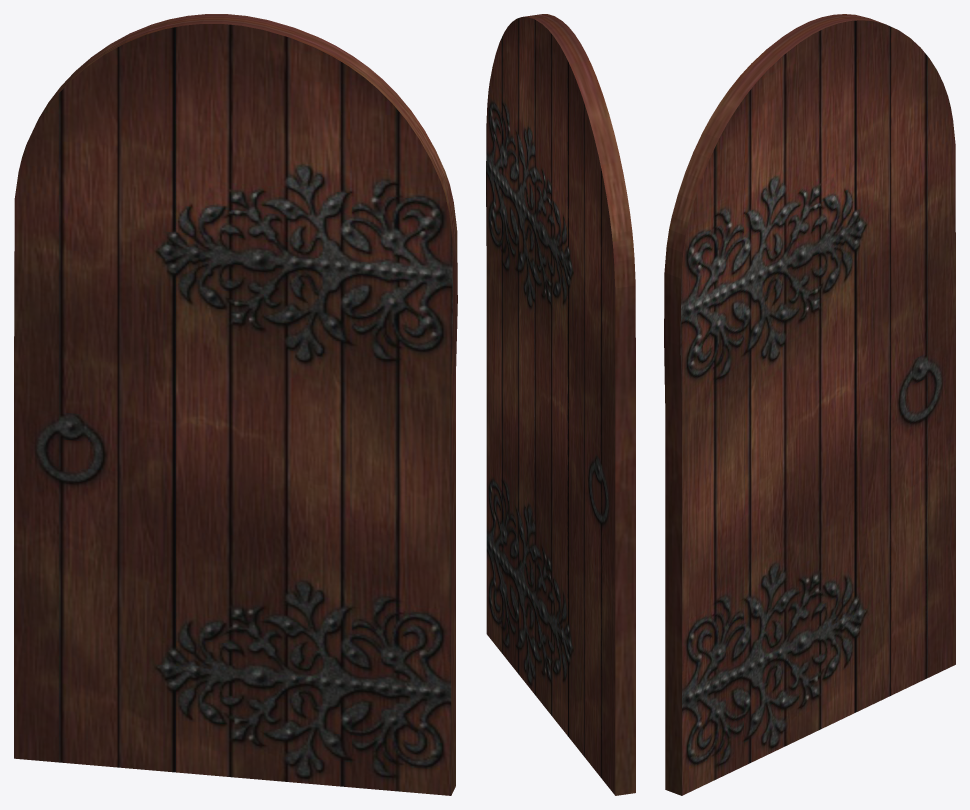
File: door 11.obj
3 renders of one model, left to right at view 1: azimuth 30°, elevation 25°; view 2: azimuth 150°, elevation 25°; view 3: azimuth 270°, elevation 25°, orthographic. The views are drawn at different scales.
Visible parts, largest first — view 1: door_10:Mesh; view 2: door_10:Mesh; view 3: door_10:Mesh.
Boxes of the visible parts, left/top/right/bottom form: door_10:Mesh: left=14, top=14, right=457, bottom=795; door_10:Mesh: left=486, top=14, right=635, bottom=795; door_10:Mesh: left=664, top=14, right=955, bottom=795.
Size of the model in its own units: 50.76 by 120 by 45.35.
Materials: 1 (1 with a texture image).
